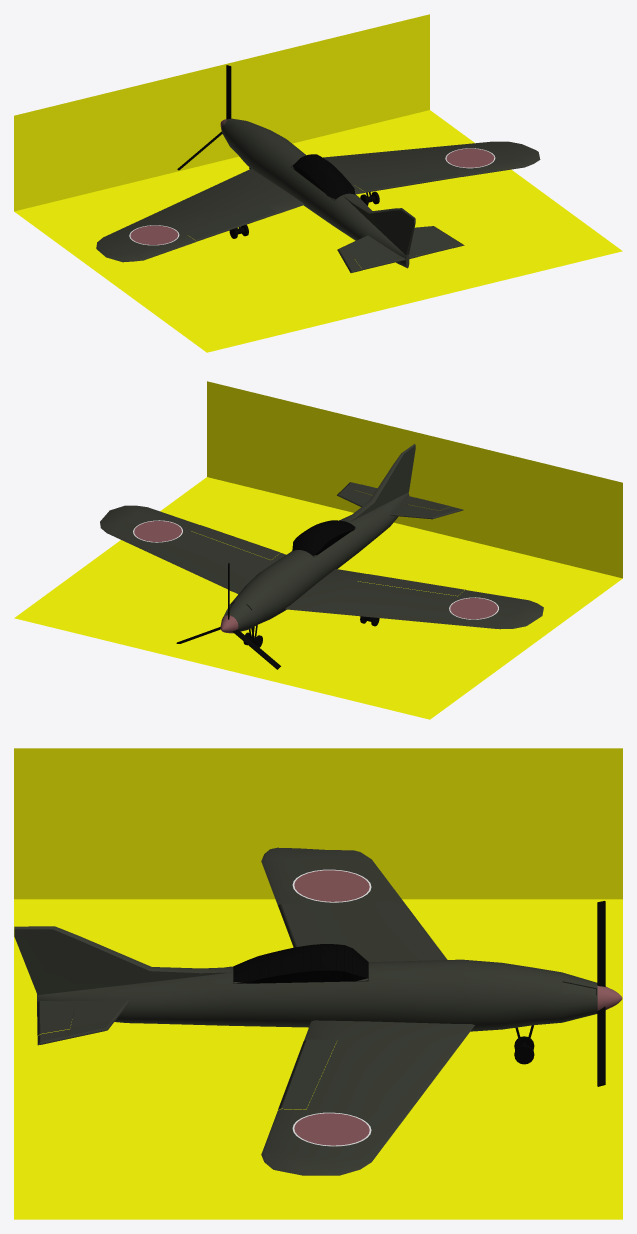
3 renders of one model, top to bottom at view 1: azimuth 30°, elevation 25°; view 2: azimuth 150°, elevation 25°; view 3: azimuth 270°, elevation 25°, orthographic. The views are drawn at different scales.
Visible parts, largest first — view 1: Box001, Object002, Box010, Cylinder001, Box005, Object005, Box002, Object009, Object012, Box004, Circle004, Circle002 (+4 smaller); view 2: Box001, Object003, Box010, Cylinder001, Box005, Box002, Object005, Object012, Object009, Circle004, Circle002, Box004 (+2 smaller); view 3: Box001, Object004, Cylinder001, Box005, Box010, Box002, Object005, Object009, Box003, Circle002, Circle004, Object011 (+5 smaller).
Part boxes in pixels (x1,y1,x2,y2): Box001: [14, 110, 622, 352]; Object002: [14, 14, 429, 211]; Box010: [96, 168, 304, 262]; Cylinder001: [221, 118, 409, 268]; Box005: [323, 141, 540, 194]; Object005: [293, 154, 354, 198]; Box002: [342, 193, 415, 255]; Object009: [354, 169, 462, 192]; Object012: [187, 205, 277, 241]; Box004: [337, 235, 405, 272]; Circle004: [130, 225, 178, 244]; Circle002: [446, 148, 494, 167]; Box001: [14, 477, 622, 719]; Object003: [207, 381, 622, 578]; Box010: [285, 569, 543, 629]; Cylinder001: [223, 492, 409, 631]; Box005: [100, 505, 286, 594]; Box002: [342, 444, 415, 522]; Object005: [292, 520, 354, 555]; Object012: [358, 574, 465, 595]; Object009: [191, 525, 280, 559]; Circle004: [450, 598, 497, 619]; Circle002: [134, 521, 181, 541]; Box004: [390, 496, 463, 519]; Box001: [14, 899, 622, 1219]; Object004: [14, 748, 622, 899]; Cylinder001: [37, 959, 597, 1031]; Box005: [261, 1020, 474, 1175]; Box010: [261, 847, 447, 962]; Box002: [14, 926, 232, 994]; Object005: [233, 944, 368, 983]; Object009: [278, 1039, 337, 1109]; Box003: [37, 1000, 129, 1045]; Circle002: [294, 1113, 369, 1145]; Circle004: [294, 870, 369, 901]; Object011: [233, 944, 368, 983].
Size of the model in its own units: 2.32 by 0.5109 by 1.79.
9 materials, 4 textured.
